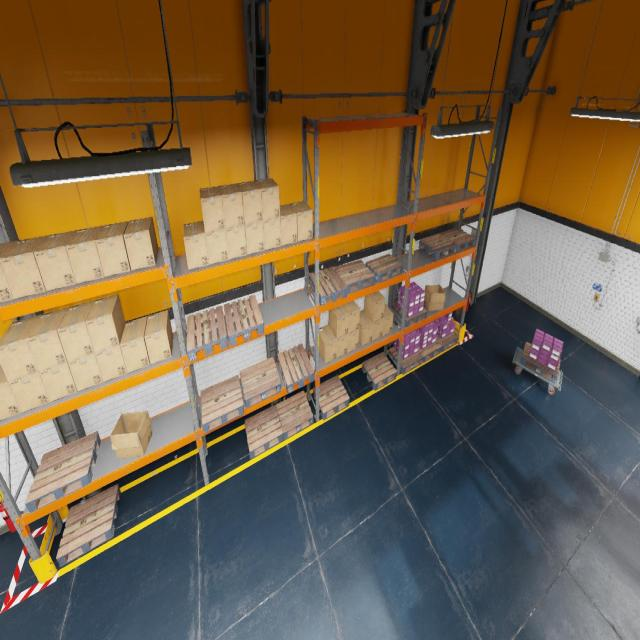box: (0, 235, 48, 299), (0, 314, 41, 382), (26, 308, 68, 372), (34, 230, 76, 291), (86, 294, 126, 353), (57, 300, 94, 362), (65, 226, 104, 284), (95, 221, 131, 277), (110, 411, 152, 458), (123, 217, 158, 270), (8, 372, 50, 413), (120, 316, 150, 373), (144, 310, 173, 364), (39, 362, 77, 402), (95, 338, 127, 382), (68, 353, 102, 392), (183, 220, 209, 270), (0, 363, 21, 421), (200, 186, 225, 233), (219, 183, 244, 228), (0, 241, 18, 302), (238, 181, 263, 224), (255, 178, 280, 220), (289, 201, 313, 241), (205, 229, 228, 264), (225, 224, 247, 260), (328, 304, 349, 338), (280, 204, 297, 245), (319, 324, 336, 364), (244, 221, 264, 254), (364, 291, 385, 322), (364, 309, 383, 341), (263, 217, 281, 250), (343, 300, 360, 333), (424, 284, 445, 310), (331, 328, 348, 358), (359, 310, 373, 345), (382, 304, 393, 336), (348, 329, 359, 352)
pallets: (24, 432, 100, 514), (56, 484, 121, 566), (201, 375, 244, 433), (187, 305, 228, 362), (239, 357, 281, 408), (244, 404, 283, 458), (223, 295, 264, 346), (277, 343, 314, 394), (276, 390, 313, 440), (520, 342, 560, 383), (313, 375, 349, 420), (309, 266, 347, 306), (334, 260, 375, 294), (362, 352, 396, 391), (419, 233, 457, 260), (366, 254, 402, 282), (388, 346, 423, 374), (439, 227, 476, 252), (391, 302, 427, 326), (418, 340, 442, 363), (435, 331, 459, 352)
